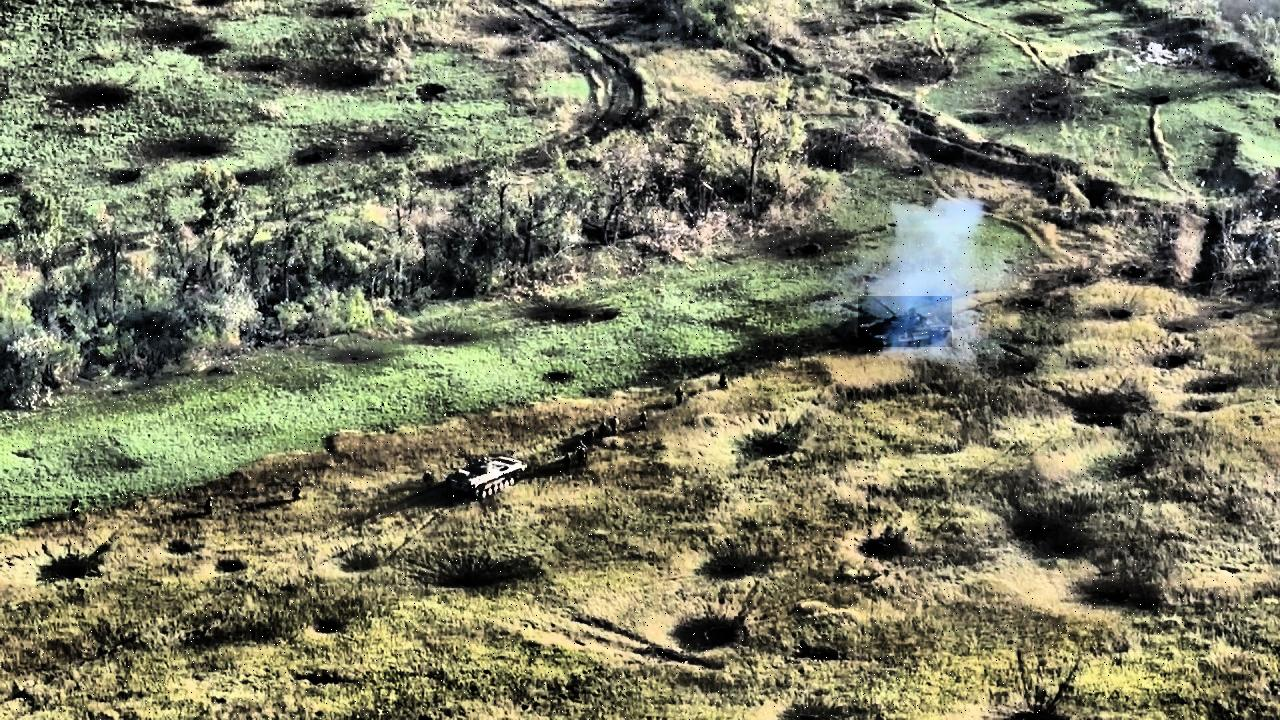military-vehicle: (858, 297, 952, 348), (447, 454, 527, 499)
